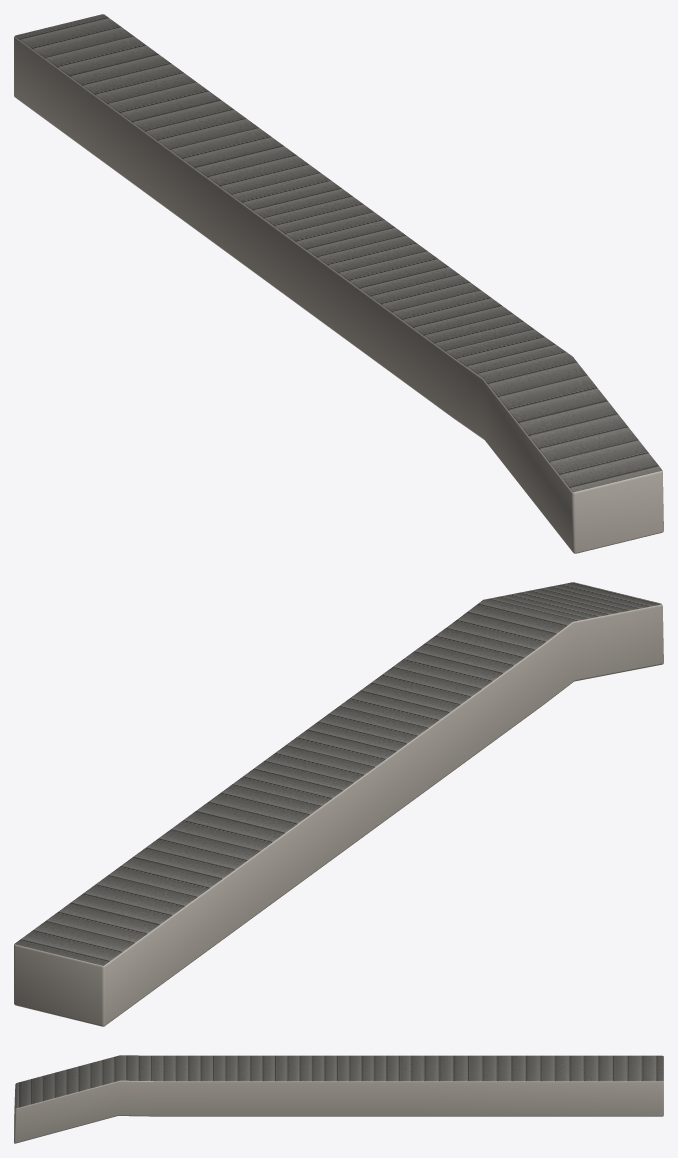
Rendered from Conveyor00.fbx.
3 views of the same model, one above another, from view 1: azimuth 30°, elevation 25°; view 2: azimuth 150°, elevation 25°; view 3: azimuth 270°, elevation 25° (orthographic). The views are drawn at different scales.
Parts seen in each view (by area): view 1: Conveyor00; view 2: Conveyor00; view 3: Conveyor00.
Boxes of the visible parts, bbox=[...] form: Conveyor00: bbox=[14, 14, 663, 553]; Conveyor00: bbox=[14, 582, 663, 1026]; Conveyor00: bbox=[14, 1055, 663, 1143].
Bounding box in the file's own units: 4000 × 4621 × 42677.
